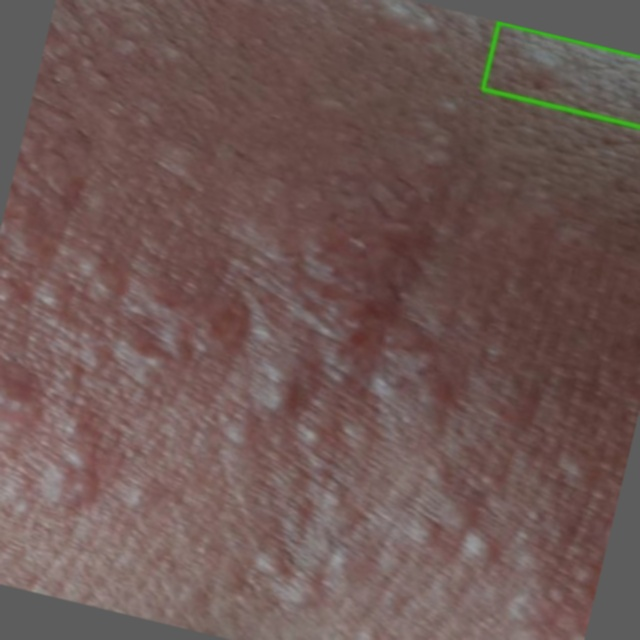Seborrheic Dermatitis: (482, 22, 639, 126)
